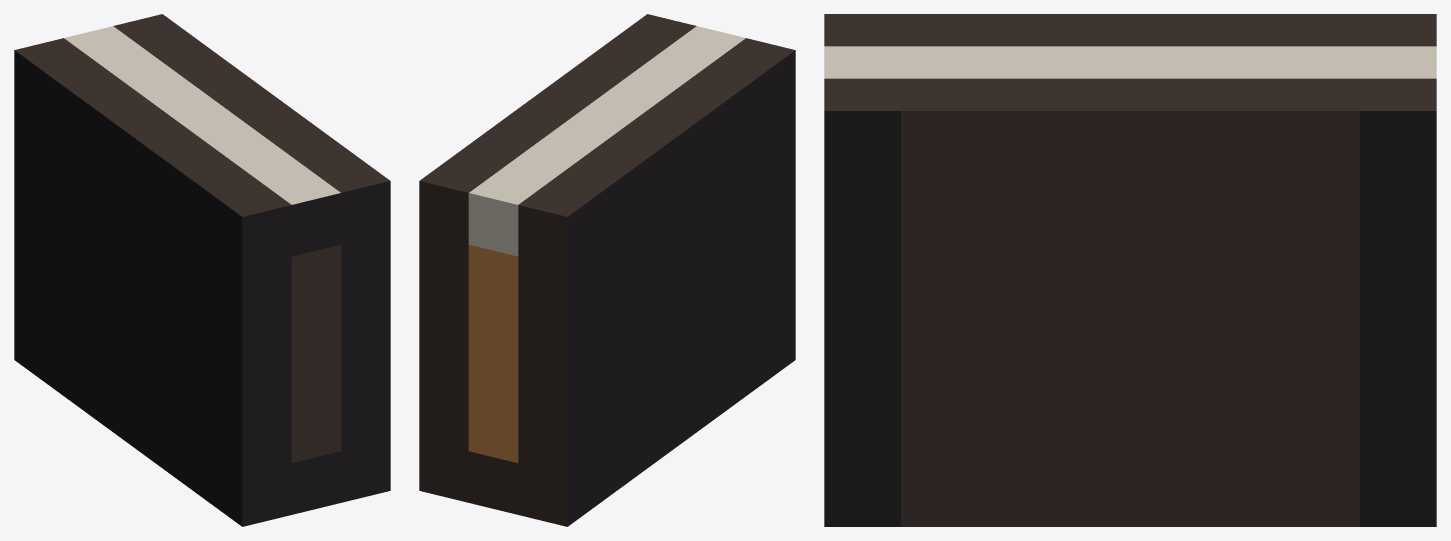
Rendered from knight_Crest.glb.
The picture shows the model from 3 angles, left to right: view 1: azimuth 30°, elevation 25°; view 2: azimuth 150°, elevation 25°; view 3: azimuth 270°, elevation 25°; orthographic projection. The views are drawn at different scales.
Visible parts, largest first — view 1: knight_Crest; view 2: knight_Crest; view 3: knight_Crest.
Boxes of the visible parts, x1,y1,x2,y2 form: knight_Crest: [14, 14, 390, 526]; knight_Crest: [419, 14, 795, 526]; knight_Crest: [824, 14, 1436, 526].
Bounding box in the file's own units: 0.375 × 0.75 × 1.
1 material, 1 textured.
